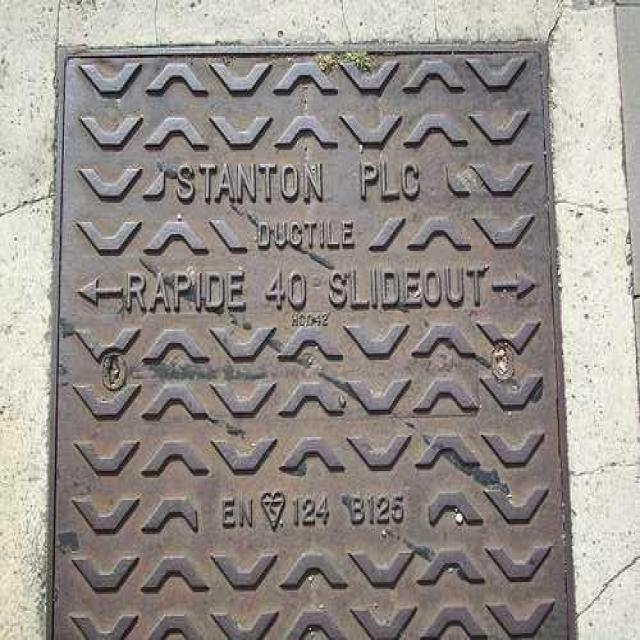manhole: (42, 39, 580, 640)
